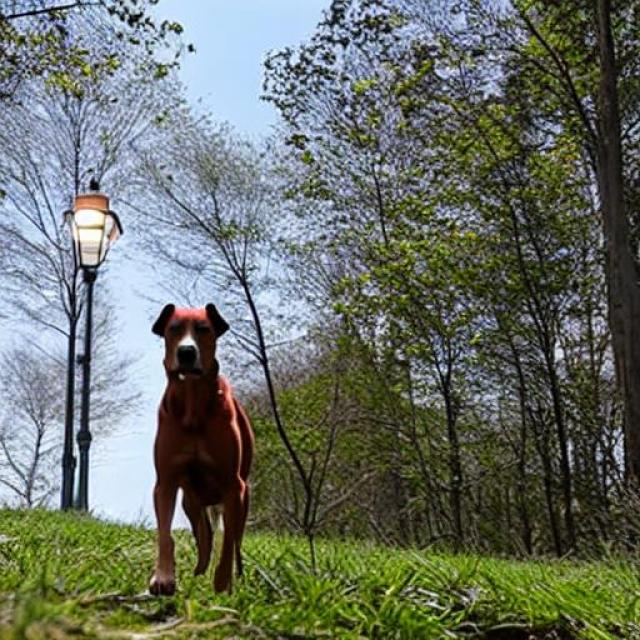Dog: (148, 303, 255, 596)
